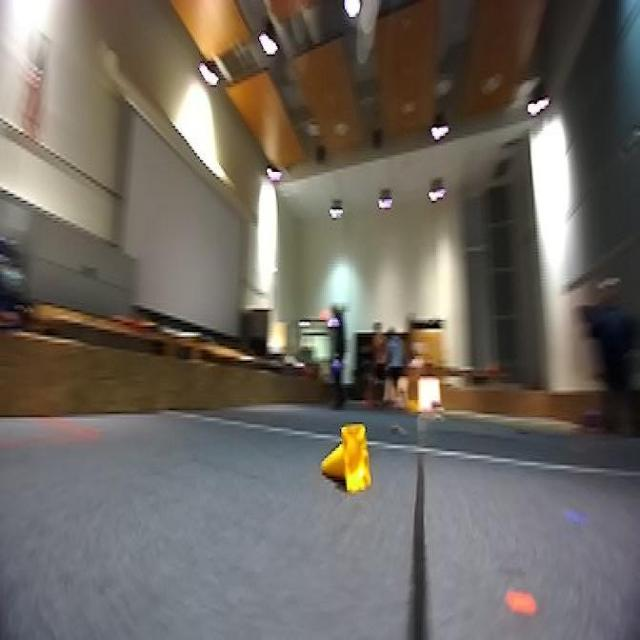frc_cone: (317, 424, 373, 500)
